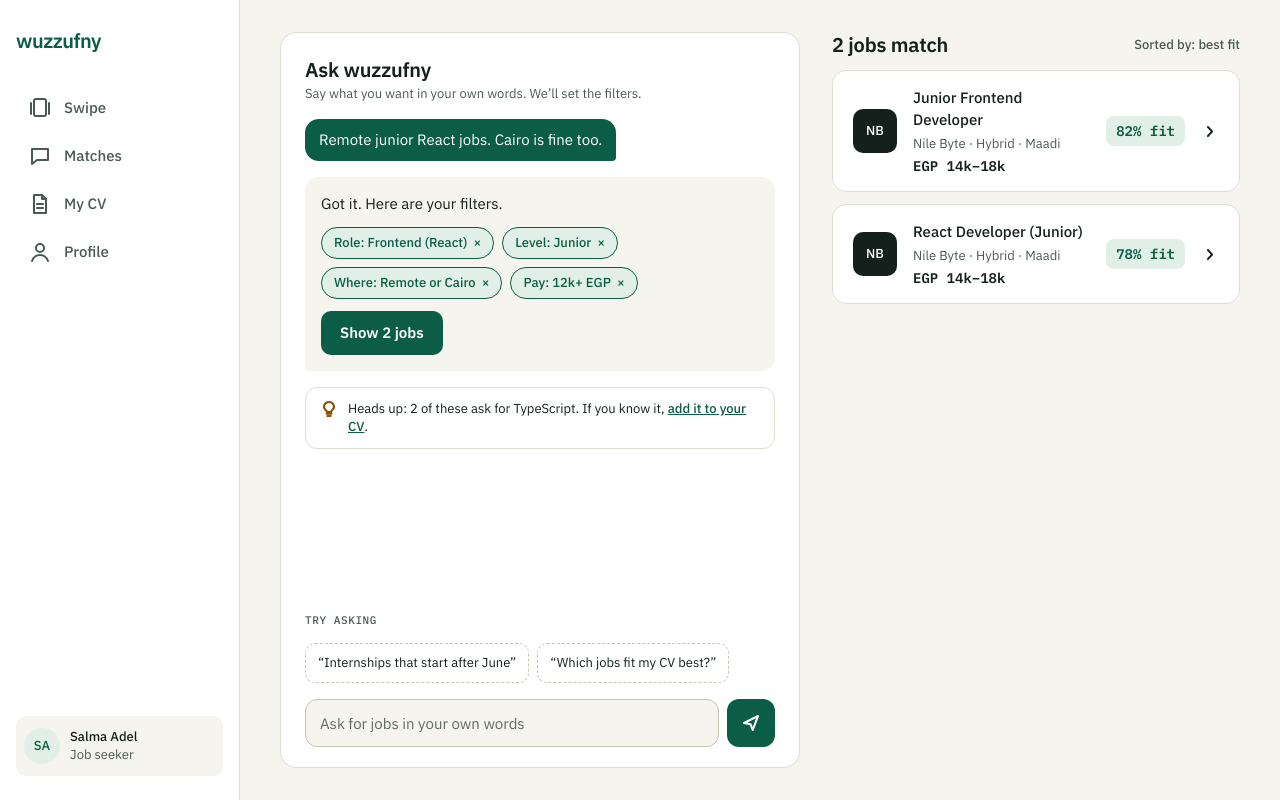
it: H7 Ask wuzzufny › Interested from the list removes the job and links to the new match
The image size is (1280, 800).
Click the button "Junior Frontend Developer".
click(875, 131)  # box x1=833 y1=71 x2=1239 y2=191
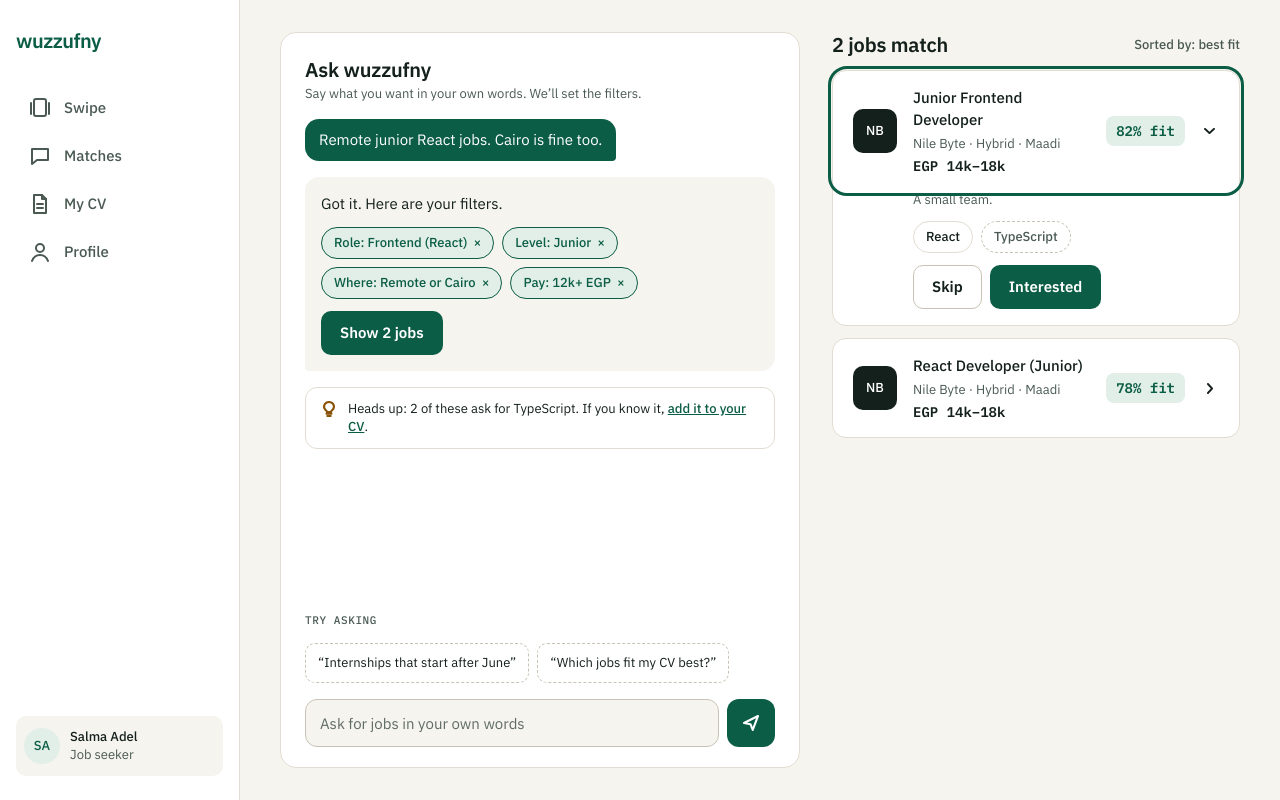
Click the button "Interested".
click(1046, 287)  # box x1=990 y1=265 x2=1101 y2=309
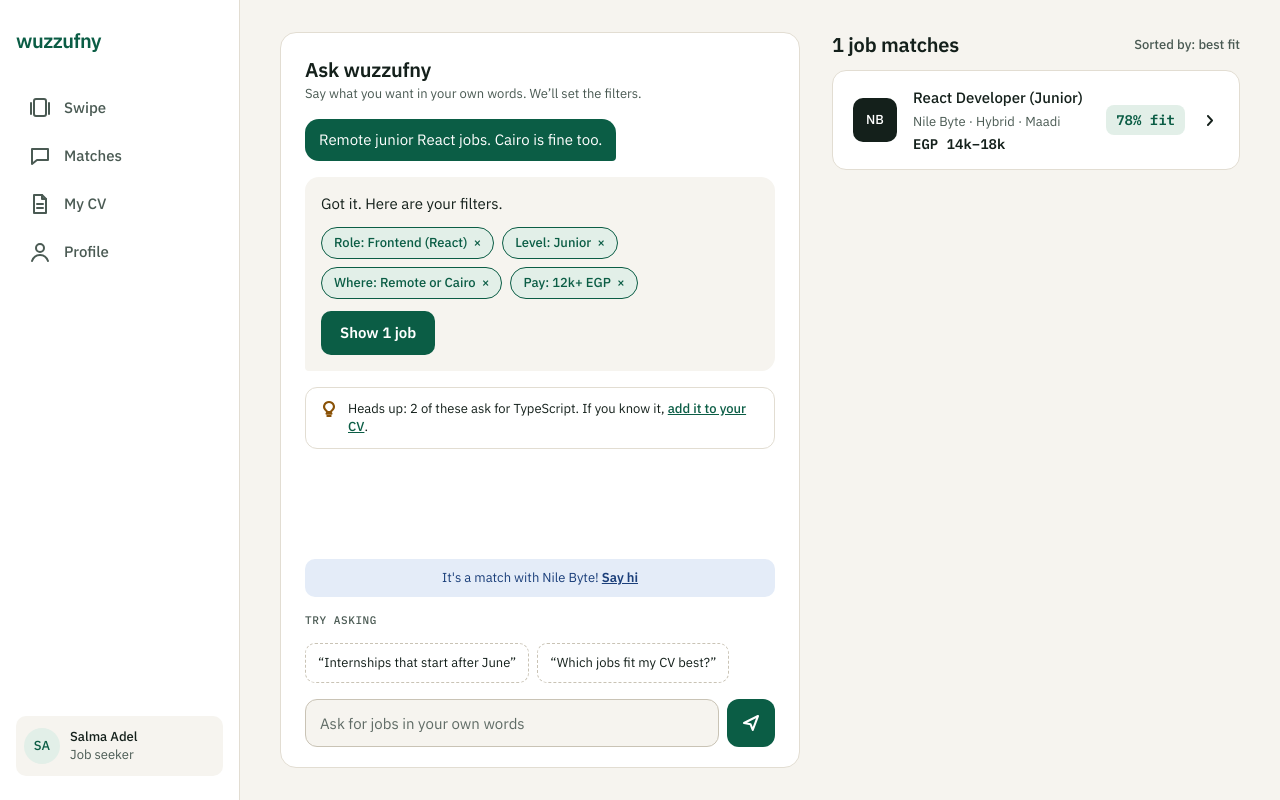
Check: the heading "1 job matches" is shown, box x1=832 y1=31 x2=959 y2=58
